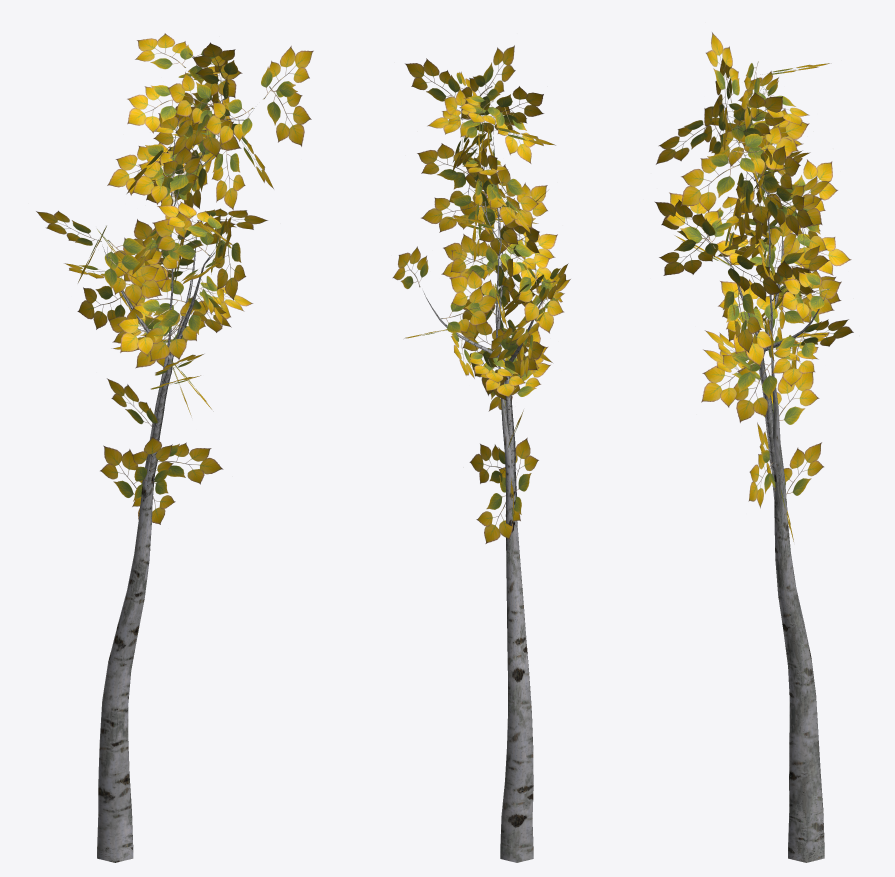
Rendered from quaking_aspen_1.glb.
The picture shows the model from 3 angles, left to right: view 1: azimuth 30°, elevation 25°; view 2: azimuth 150°, elevation 25°; view 3: azimuth 270°, elevation 25°; orthographic projection. The views are drawn at different scales.
Visible parts, largest first — view 1: foliage.002, structure.002; view 2: foliage.002, structure.002; view 3: foliage.002, structure.002.
Boxes of the visible parts, x1,y1,x2,y2 form: foliage.002: (36, 33, 313, 524); structure.002: (97, 96, 254, 862); foliage.002: (392, 45, 570, 543); structure.002: (423, 110, 542, 862); foliage.002: (654, 32, 853, 541); structure.002: (718, 84, 827, 862).
Bounding box in the file's own units: 3.59 × 11.19 × 3.05.
2 materials, 2 textured.
